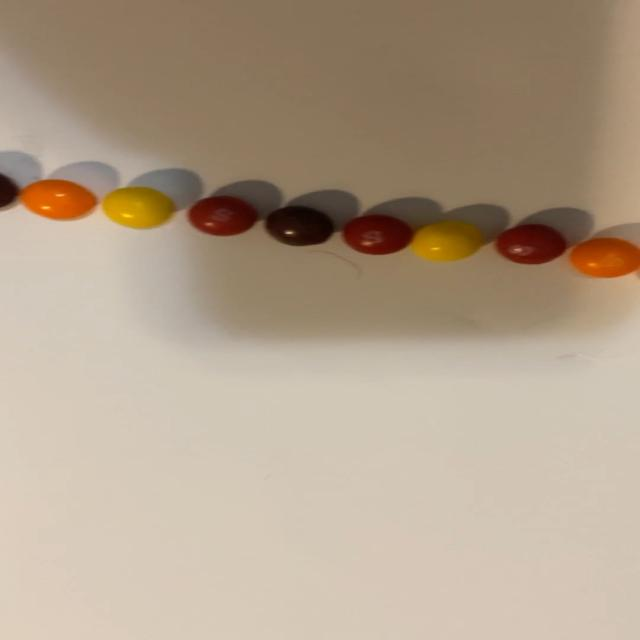smartie: (101, 186, 174, 228), (19, 179, 95, 219), (411, 221, 483, 261), (496, 224, 567, 264), (571, 237, 640, 278), (188, 195, 257, 236), (342, 215, 412, 254), (265, 206, 333, 246)
